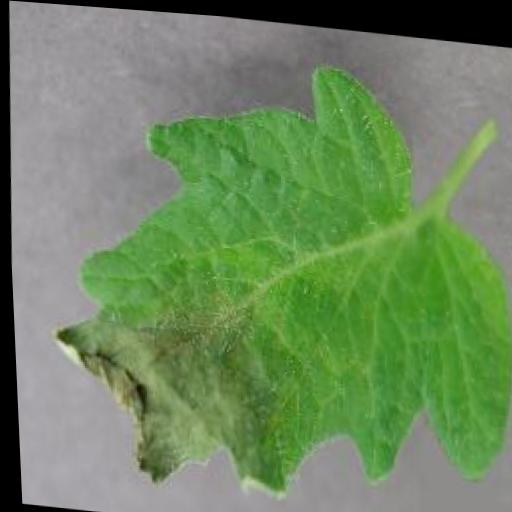Late Blight: (26, 30, 512, 512)
